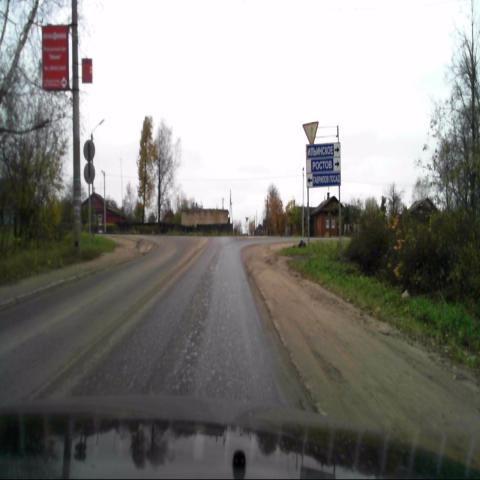2_4: (302, 120, 318, 145)
